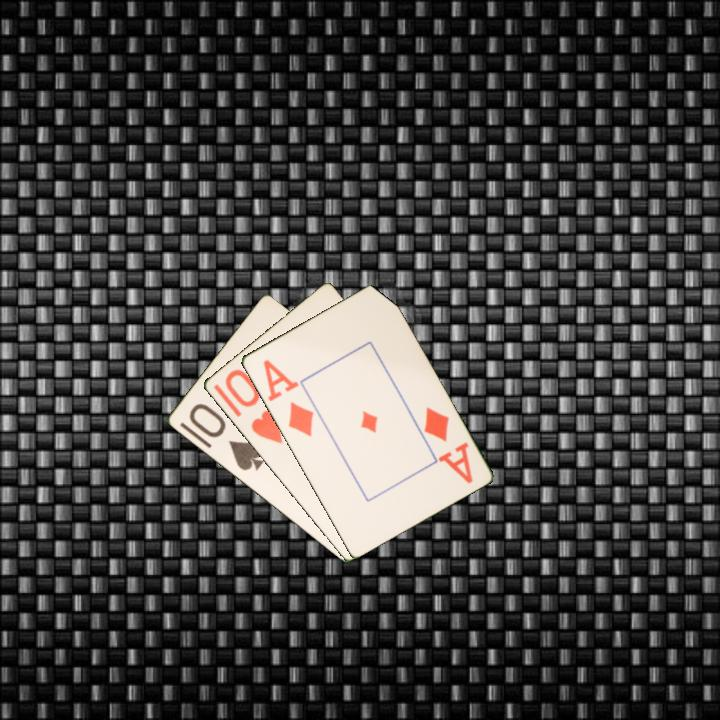10h: (221, 365, 285, 447)
10s: (185, 400, 267, 474)
Ad: (259, 356, 316, 439), (420, 403, 475, 487)
